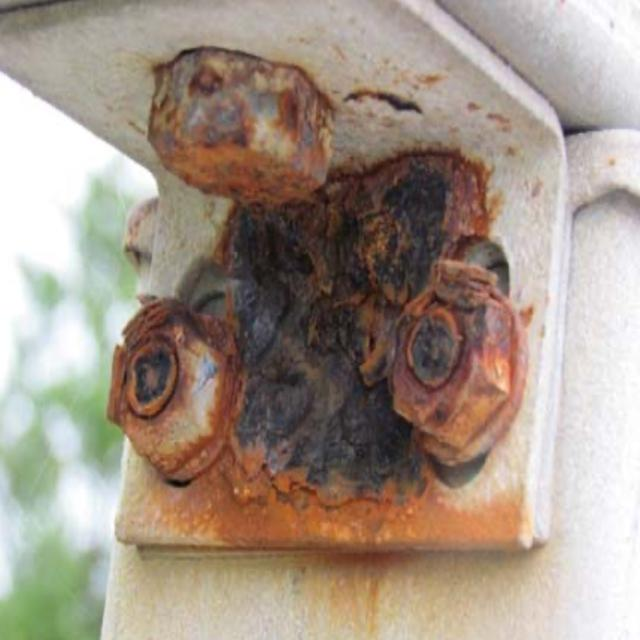corrosion: (97, 68, 523, 553)
